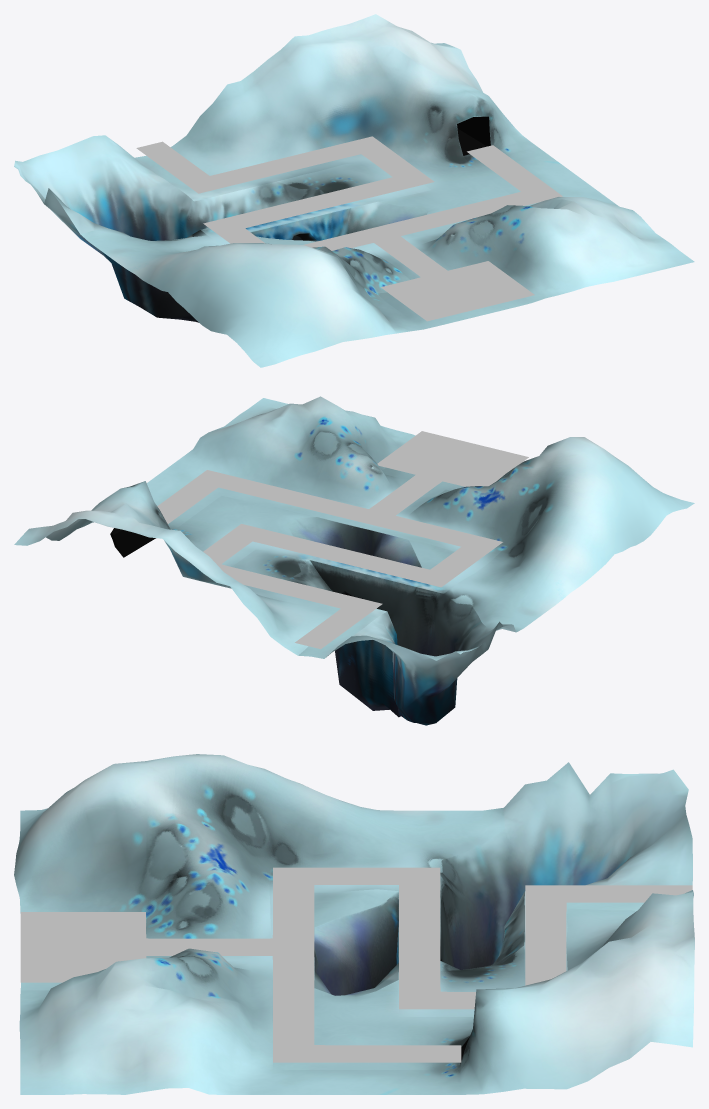
File: WinterTerrain_00_Test.fbx
3 renders of one model, top to bottom at view 1: azimuth 30°, elevation 25°; view 2: azimuth 150°, elevation 25°; view 3: azimuth 270°, elevation 25°, orthographic. The views are drawn at different scales.
Visible parts, largest first — view 1: GroundPlane, polySurface5; view 2: GroundPlane, polySurface5; view 3: GroundPlane, polySurface5.
Boxes of the visible parts, x1,y1,x2,y2 form: GroundPlane: [14, 14, 694, 367]; polySurface5: [136, 136, 562, 321]; GroundPlane: [14, 396, 694, 725]; polySurface5: [157, 431, 528, 649]; GroundPlane: [14, 754, 694, 1094]; polySurface5: [20, 867, 692, 1062].
Size of the model in its own units: 16.38 by 7.11 by 16.2.
